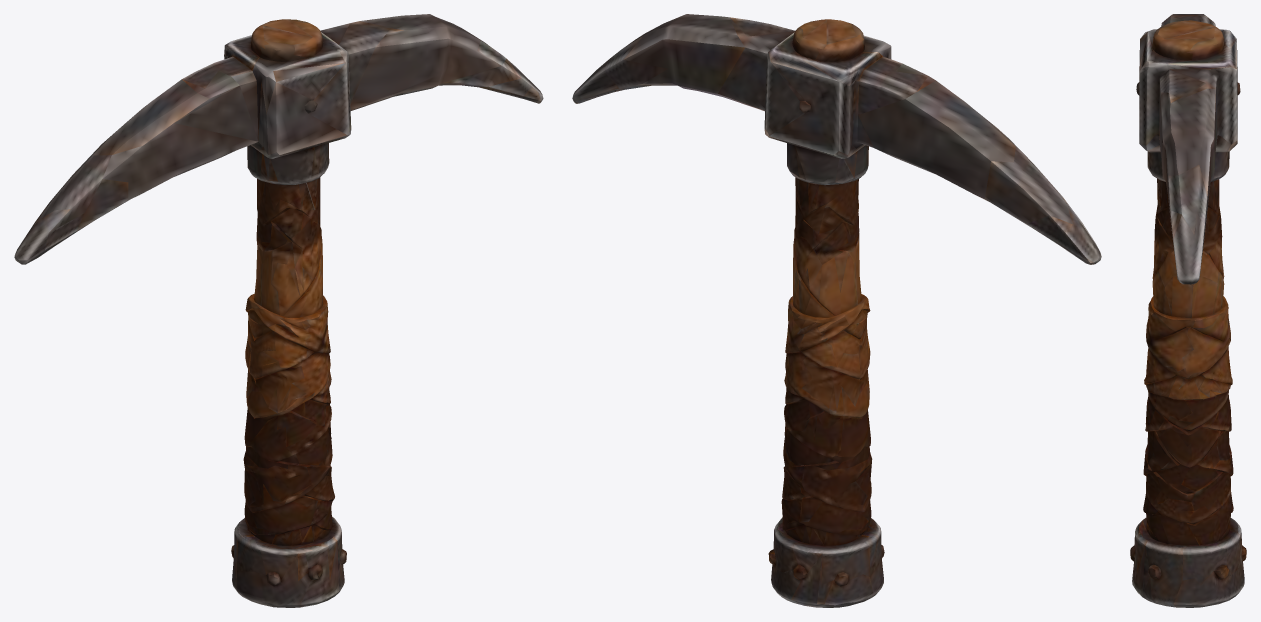
The model's file is pickaxe.glb.
3 renders of one model, left to right at view 1: azimuth 30°, elevation 25°; view 2: azimuth 150°, elevation 25°; view 3: azimuth 270°, elevation 25°, orthographic.
Parts seen in each view (by area): view 1: Mesh_0; view 2: Mesh_0; view 3: Mesh_0.
Boxes of the visible parts, x1,y1,x2,y2 form: Mesh_0: (14,14,543,607); Mesh_0: (572,14,1101,607); Mesh_0: (1130,14,1246,607).
Bounding box in the file's own units: 1.87 × 1.9 × 0.3594.
1 material, 1 textured.
